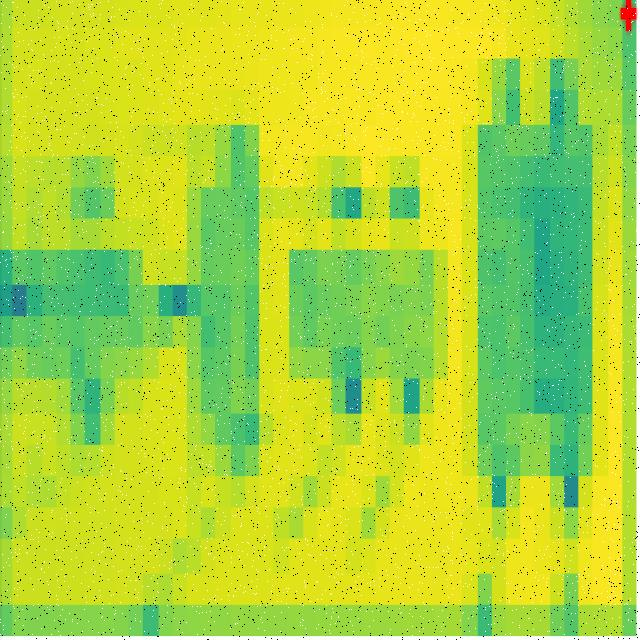Concrete: (26, 246, 160, 378)
Glass: (478, 125, 590, 475)
Metal: (189, 186, 267, 446)
Wood: (288, 248, 448, 380)
